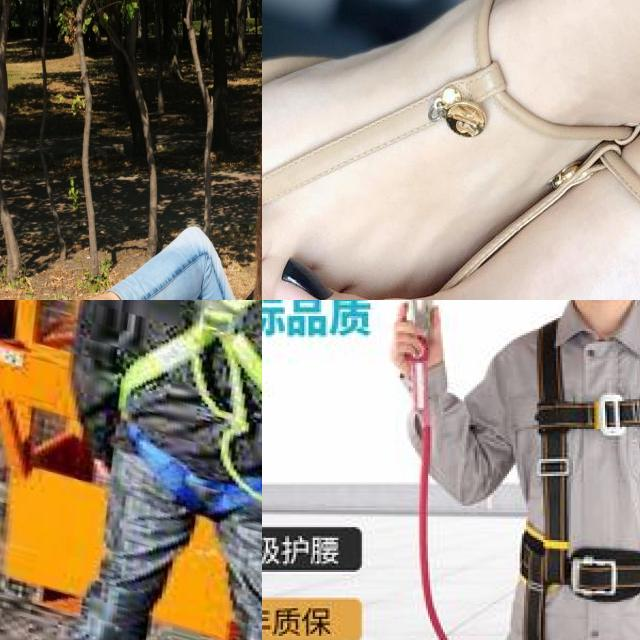Barefoots: (262, 0, 640, 300), (278, 158, 640, 300)
Harness: (507, 305, 640, 640), (118, 300, 262, 449)
